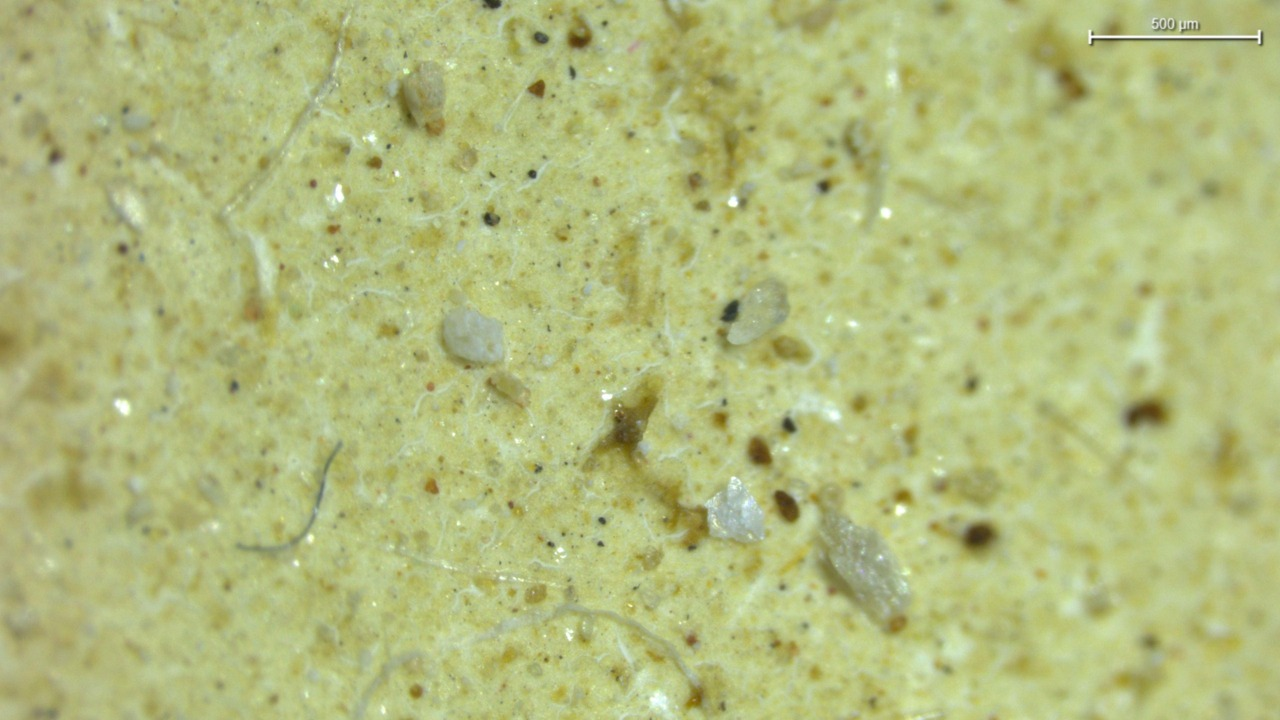microplastic_fragment: (819, 510, 919, 632), (440, 297, 512, 371), (704, 476, 769, 549), (726, 275, 788, 345), (397, 58, 451, 138)
